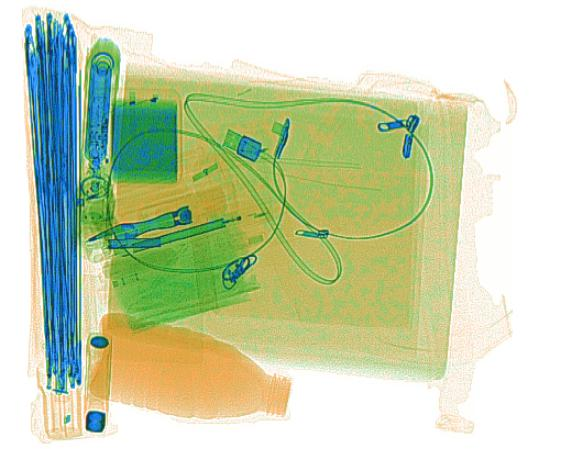battery: (86, 61, 112, 164)
